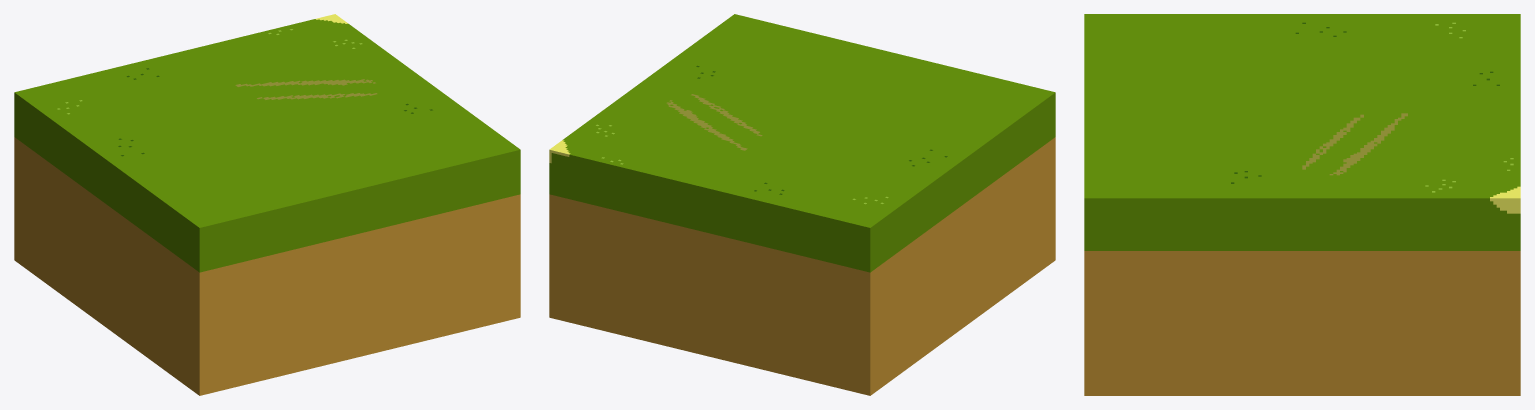
3 renders of one model, left to right at view 1: azimuth 30°, elevation 25°; view 2: azimuth 150°, elevation 25°; view 3: azimuth 270°, elevation 25°, orthographic. The views are drawn at different scales.
Parts seen in each view (by area): view 1: 10K; view 2: 10K; view 3: 10K.
Part boxes in pixels (x1,y1,x2,y2): 10K: [14, 14, 520, 395]; 10K: [549, 14, 1055, 395]; 10K: [1084, 14, 1520, 395].
Size of the model in its own units: 12.8 by 6.4 by 12.8.
Materials: 1 (1 with a texture image).
